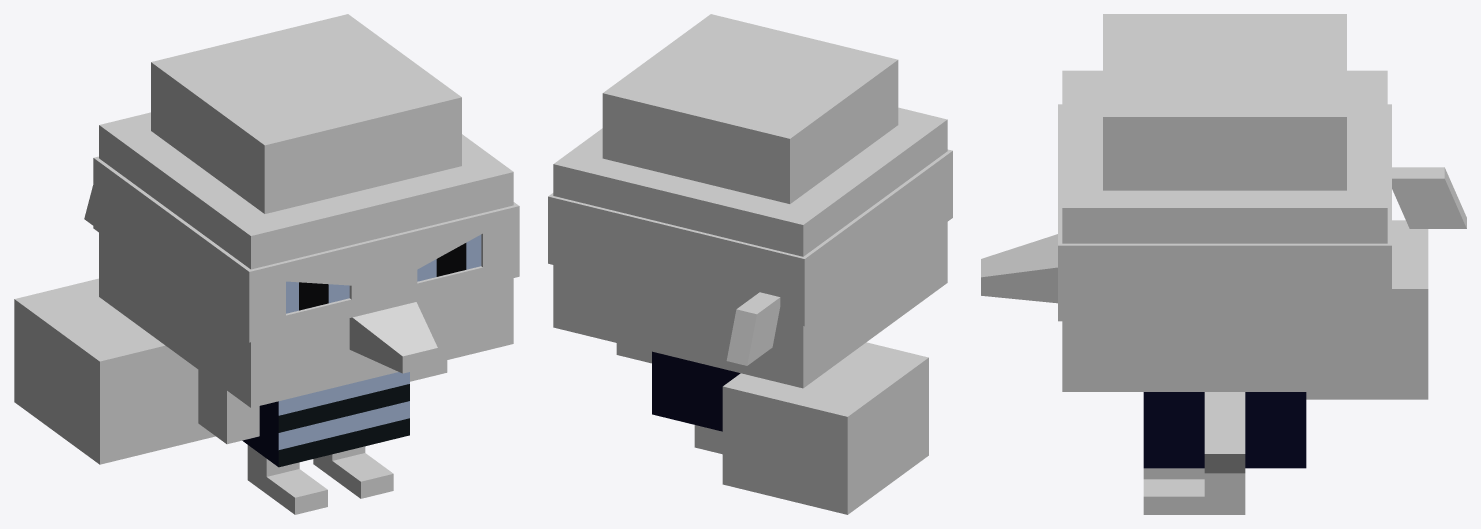
Rendered from magpie_separate.dae.
The picture shows the model from 3 angles, left to right: view 1: azimuth 30°, elevation 25°; view 2: azimuth 150°, elevation 25°; view 3: azimuth 270°, elevation 25°; orthographic projection. The views are drawn at different scales.
Visible parts, largest first — view 1: cap_MSH, bandana_MSH, bag_MSH, head_hi_MSH, head_lo_MSH, body_MSH, beak_MSH, R_arm_MSH, R_foot_MSH, L_foot_MSH, R_eye_MSH, L_eye_MSH (+1 smaller); view 2: cap_MSH, bandana_MSH, bag_MSH, head_lo_MSH, head_hi_MSH, body_MSH, knot_MSH, L_foot_MSH; view 3: cap_MSH, bandana_MSH, head_hi_MSH, head_lo_MSH, body_MSH, bag_MSH, beak_MSH, knot_MSH, L_foot_MSH, L_wing_MSH, L_arm_MSH, L_leg_MSH (+1 smaller).
Boxes of the visible parts, x1,y1,x2,y2 form: cap_MSH: [151, 14, 461, 213]; bandana_MSH: [93, 156, 519, 342]; bag_MSH: [14, 278, 215, 464]; head_hi_MSH: [99, 112, 513, 269]; head_lo_MSH: [99, 233, 513, 407]; body_MSH: [242, 372, 409, 467]; beak_MSH: [349, 302, 437, 373]; R_arm_MSH: [198, 370, 259, 444]; R_foot_MSH: [247, 463, 327, 514]; L_foot_MSH: [313, 453, 393, 498]; R_eye_MSH: [286, 281, 349, 313]; L_eye_MSH: [417, 234, 481, 281]; cap_MSH: [602, 14, 898, 203]; bandana_MSH: [548, 149, 952, 326]; bag_MSH: [722, 342, 928, 514]; head_lo_MSH: [553, 222, 947, 388]; head_hi_MSH: [553, 107, 947, 256]; body_MSH: [652, 351, 740, 431]; knot_MSH: [726, 292, 780, 365]; L_foot_MSH: [694, 431, 722, 454]; cap_MSH: [1103, 14, 1346, 190]; bandana_MSH: [1058, 104, 1391, 321]; head_hi_MSH: [1062, 70, 1387, 243]; head_lo_MSH: [1062, 321, 1387, 391]; body_MSH: [1143, 392, 1306, 468]; bag_MSH: [1306, 220, 1428, 399]; beak_MSH: [981, 234, 1057, 303]; knot_MSH: [1392, 167, 1466, 228]; L_foot_MSH: [1143, 479, 1245, 514]; L_wing_MSH: [1204, 419, 1245, 473]; L_arm_MSH: [1204, 392, 1245, 474]; L_leg_MSH: [1204, 475, 1245, 496].
Bounding box in the file's own units: 1.5 × 1.44 × 1.49.
